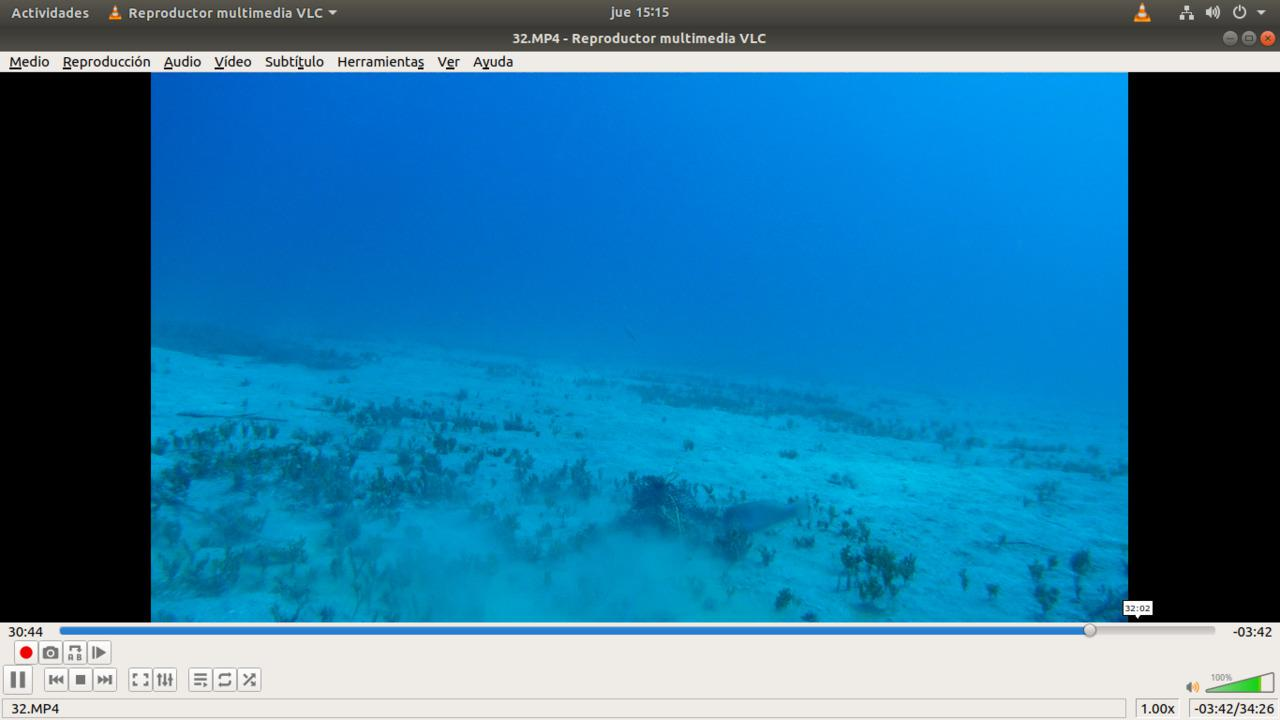raor: (712, 497, 816, 538)
